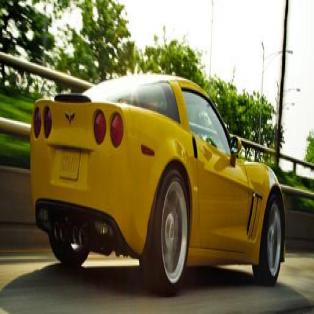Auto: (30, 69, 286, 290)
